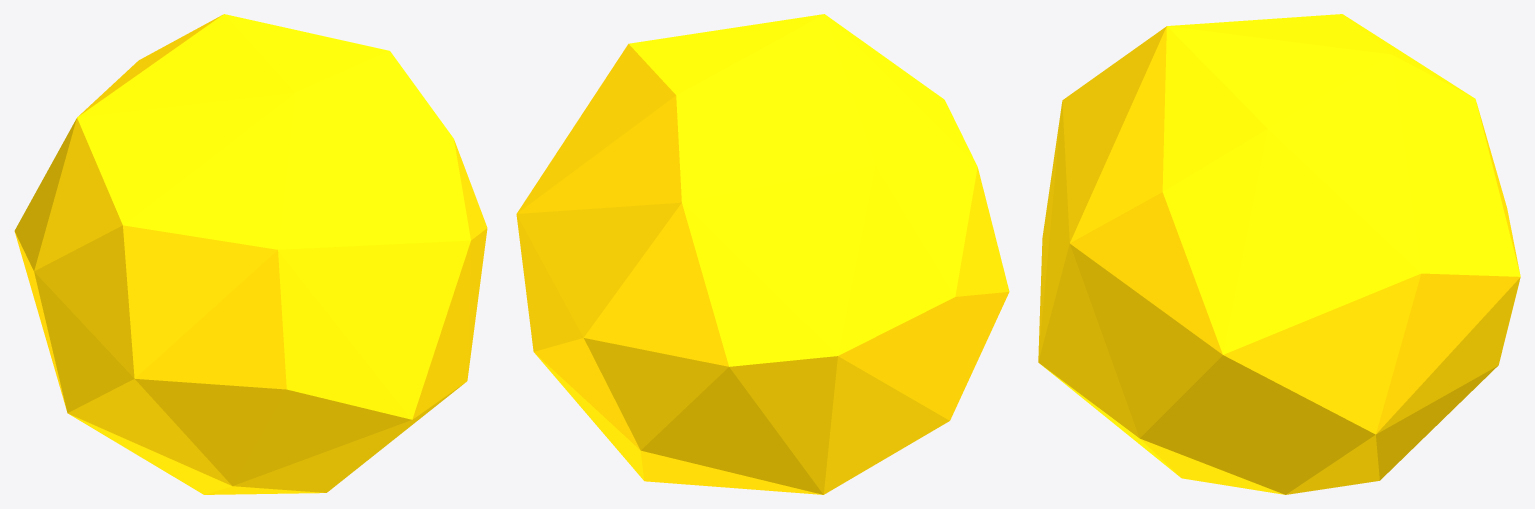
File: gold.fbx
3 views of the same model, side by side, from view 1: azimuth 30°, elevation 25°; view 2: azimuth 150°, elevation 25°; view 3: azimuth 270°, elevation 25° (orthographic). The views are drawn at different scales.
Parts seen in each view (by area): view 1: Sphere_1; view 2: Sphere_1; view 3: Sphere_1.
Boxes of the visible parts, box(x1,y1,x2,y2) form: Sphere_1: box(14, 14, 487, 494); Sphere_1: box(516, 14, 1009, 494); Sphere_1: box(1038, 14, 1520, 494).
Bounding box in the file's own units: 959 × 936 × 928.
